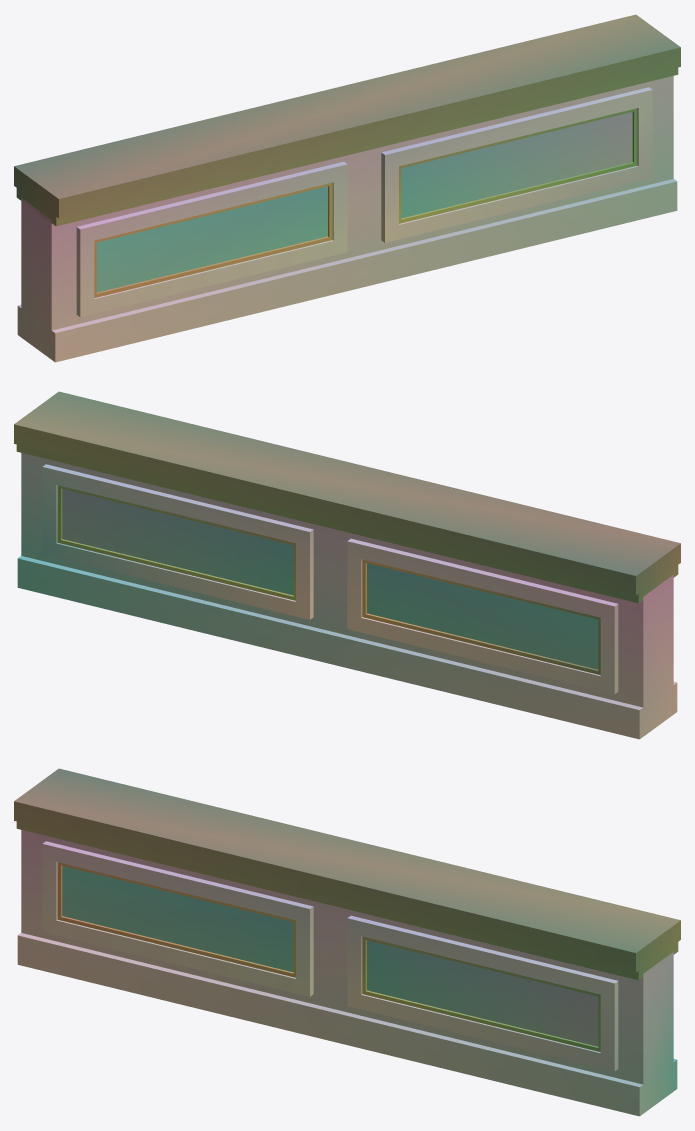
The model's file is palace_wall_low_4m.glb.
The picture shows the model from 3 angles, top to bottom: view 1: azimuth 30°, elevation 25°; view 2: azimuth 150°, elevation 25°; view 3: azimuth 330°, elevation 25°; orthographic projection.
Parts seen in each view (by area): view 1: palace_parapet, palace_parapet_gild, palace_parapet_panels; view 2: palace_parapet, palace_parapet_gild, palace_parapet_panels; view 3: palace_parapet, palace_parapet_gild, palace_parapet_panels.
Boxes of the visible parts, x1,y1,x2,y2 form: palace_parapet: (17, 76, 677, 362); palace_parapet_gild: (14, 14, 680, 297); palace_parapet_panels: (96, 112, 632, 292); palace_parapet: (17, 453, 677, 739); palace_parapet_gild: (14, 391, 680, 674); palace_parapet_panels: (62, 489, 598, 669); palace_parapet: (17, 830, 677, 1116); palace_parapet_gild: (14, 768, 680, 1051); palace_parapet_panels: (62, 866, 598, 1046).
Bounding box in the file's own units: 4 × 1.02 × 0.5.
